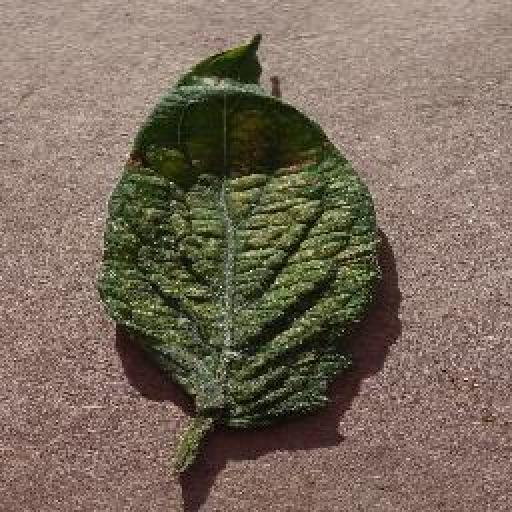disease_tomato: (98, 33, 382, 428)
